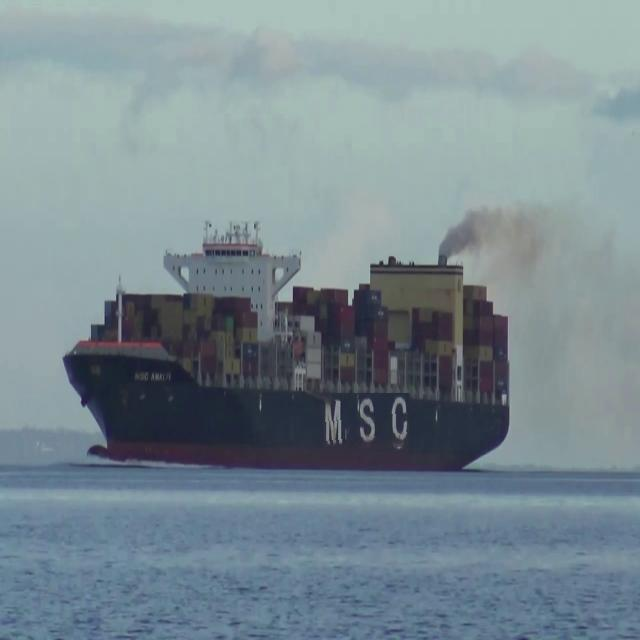OCR: (317, 393, 409, 456), (130, 358, 172, 387)
